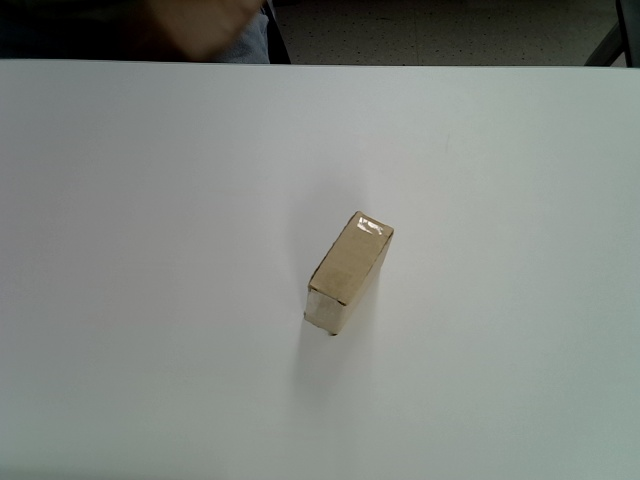normal: (304, 210, 396, 337)
